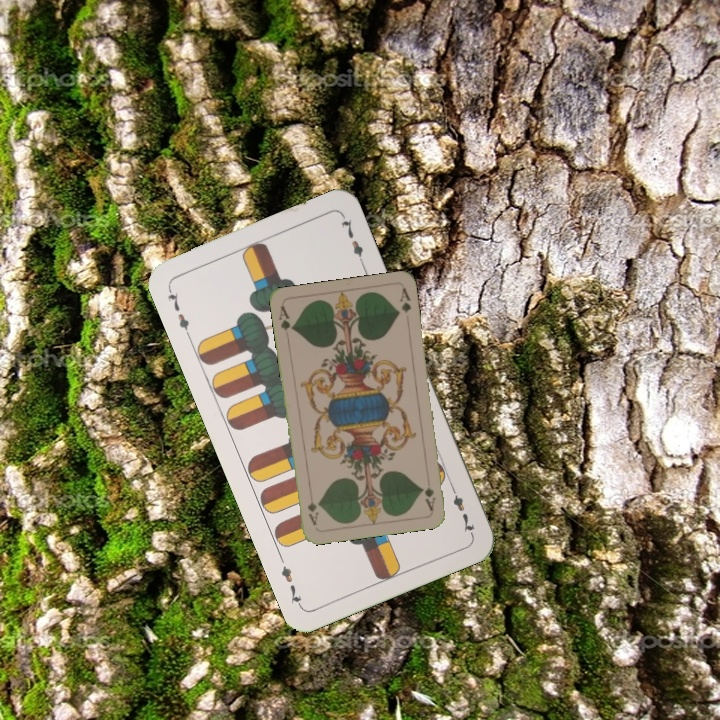E7: (446, 481, 478, 537), (163, 284, 193, 340)
GA: (421, 472, 438, 513), (275, 302, 296, 333)
